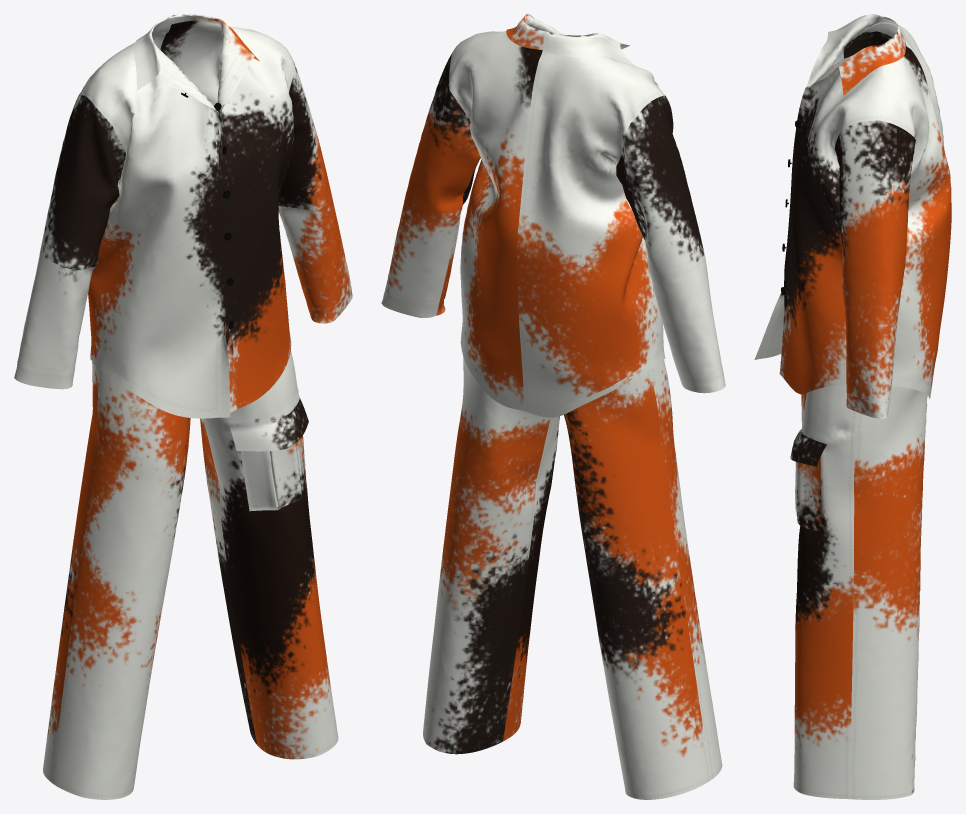
The picture shows the model from 3 angles, left to right: view 1: azimuth 30°, elevation 25°; view 2: azimuth 150°, elevation 25°; view 3: azimuth 270°, elevation 25°; orthographic projection. The views are drawn at different scales.
Visible parts, largest first — view 1: Model_4; view 2: Model_4; view 3: Model_4.
Part boxes in pixels (left/top/right/bottom): Model_4: left=14, top=14, right=352, bottom=799; Model_4: left=381, top=14, right=725, bottom=799; Model_4: left=754, top=14, right=951, bottom=799.
Bounding box in the file's own units: 3.85 × 8 × 1.99.
6 materials, 6 textured.
